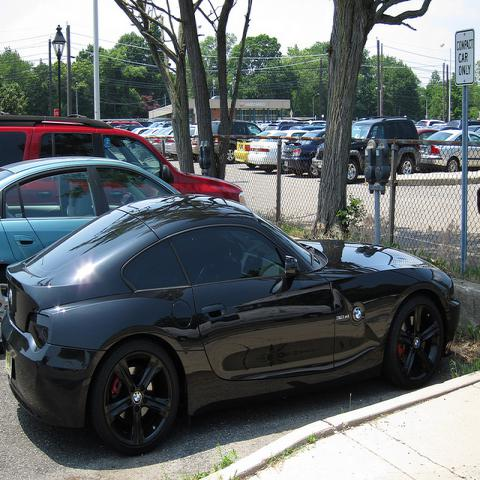car: (5, 195, 456, 445), (0, 155, 184, 326), (108, 114, 478, 181), (1, 114, 245, 201), (246, 129, 306, 174), (420, 129, 479, 173), (280, 126, 326, 178), (212, 120, 262, 162), (235, 138, 255, 170), (190, 134, 201, 162), (142, 128, 164, 141), (419, 128, 439, 142), (416, 119, 446, 126), (131, 126, 148, 137)
truck: (0, 110, 251, 206)
